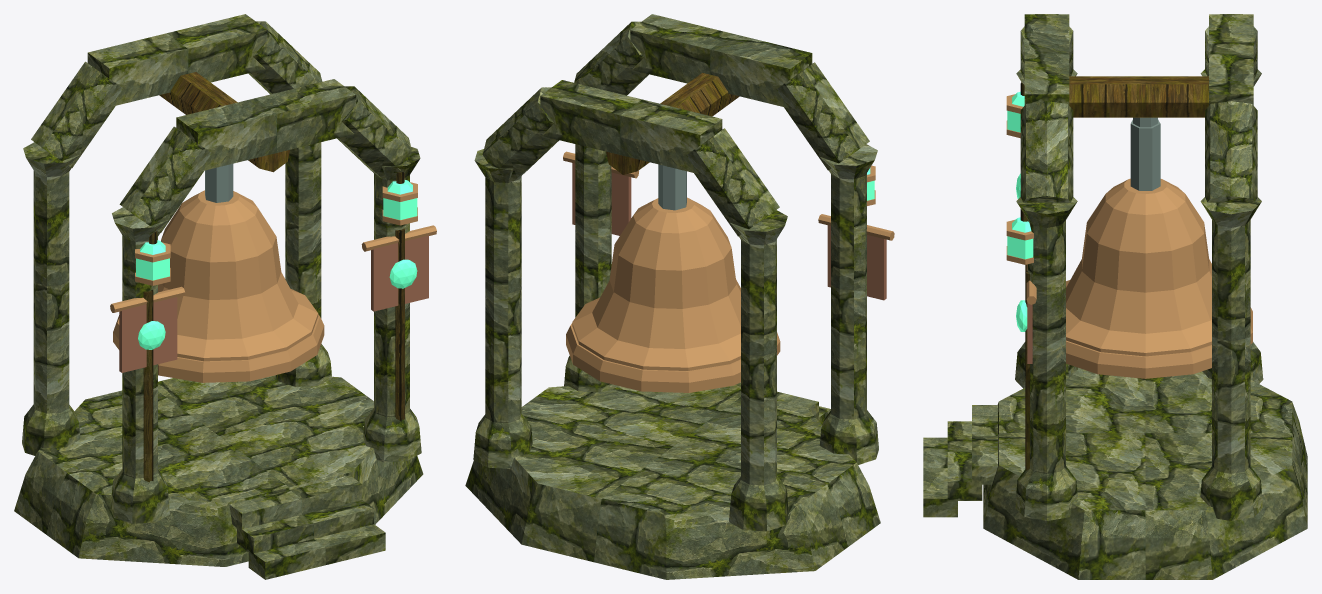
File: 09-great-marsh-bell.glb
3 views of the same model, side by side, from view 1: azimuth 30°, elevation 25°; view 2: azimuth 150°, elevation 25°; view 3: azimuth 270°, elevation 25° (orthographic). The views are drawn at different scales.
Parts seen in each view (by area): view 1: 09-great-marsh-bell; view 2: 09-great-marsh-bell; view 3: 09-great-marsh-bell.
Boxes of the visible parts, bbox=[...] form: 09-great-marsh-bell: bbox=[14, 14, 436, 579]; 09-great-marsh-bell: bbox=[465, 14, 894, 579]; 09-great-marsh-bell: bbox=[923, 14, 1307, 579].
Bounding box in the file's own units: 3.23 × 3.78 × 3.
7 materials, 3 textured.
